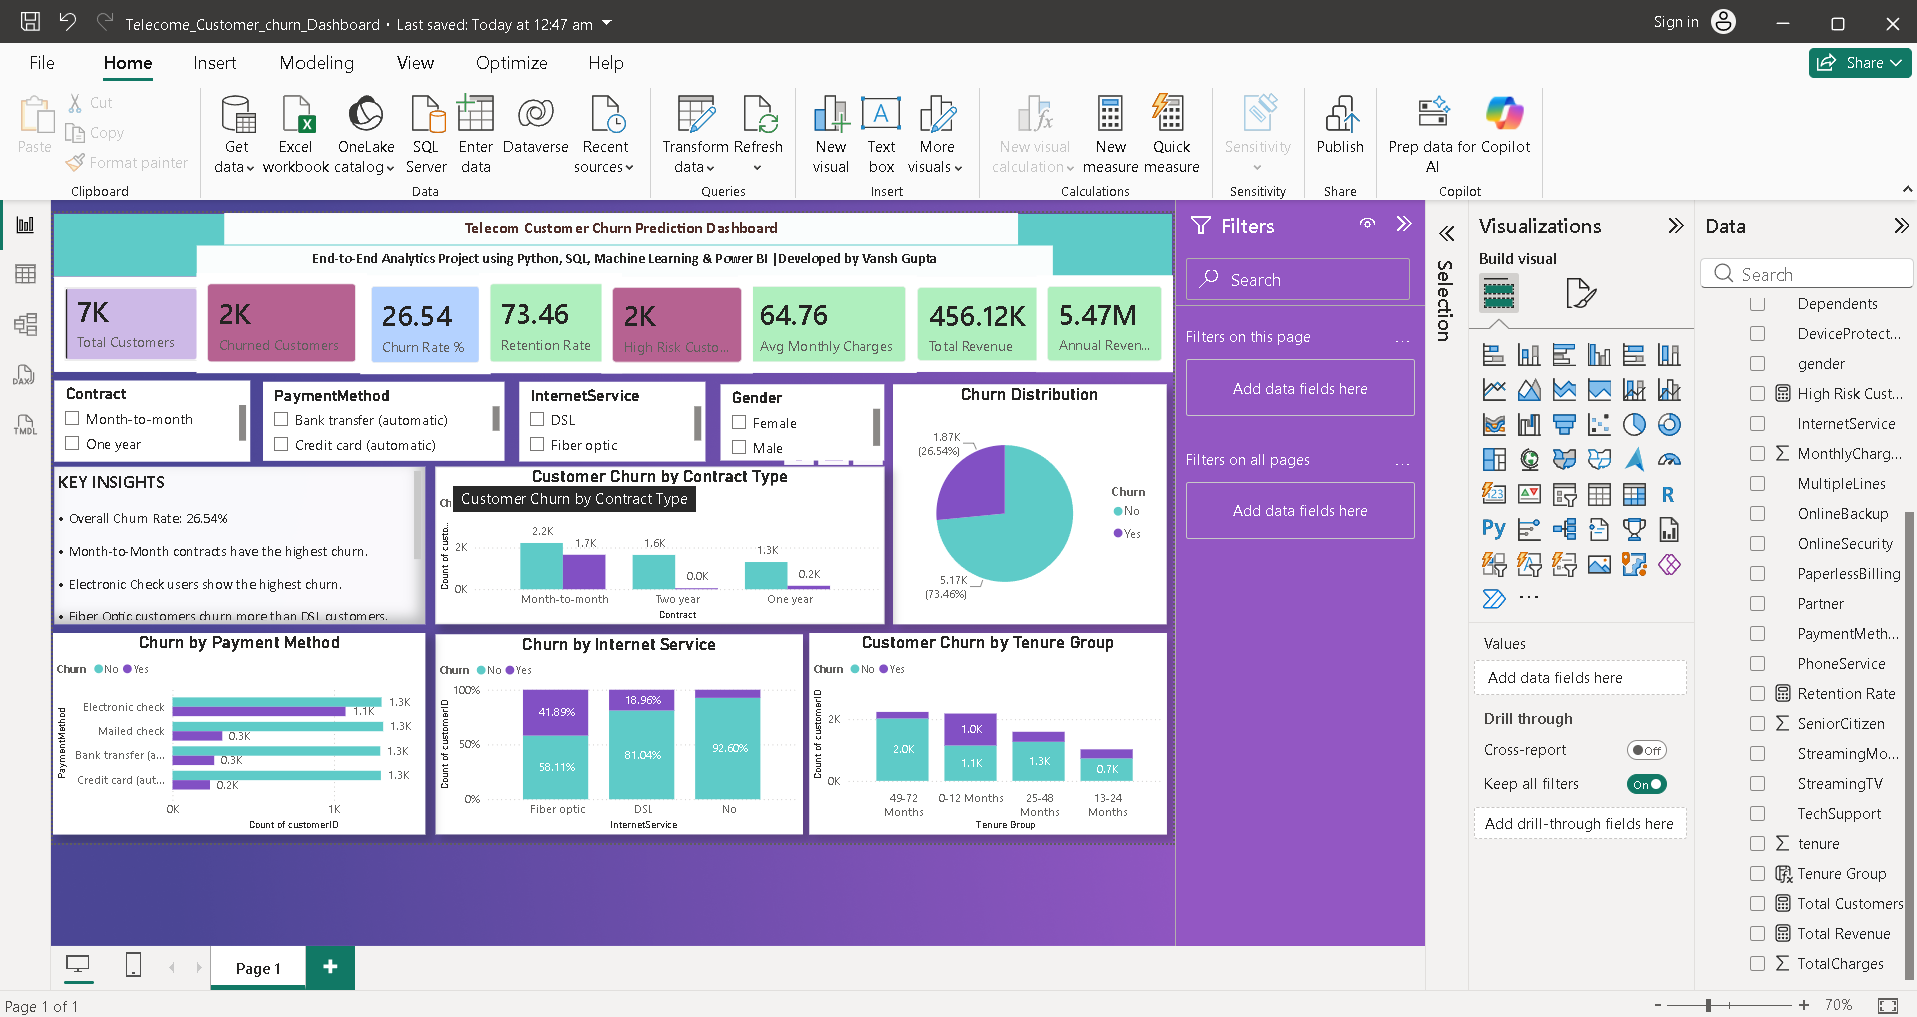

The page's visual inventory and layout, read from the dashboard file:
{"tool":"powerbi","page":{"name":"Page 1","canvas":[1280,720],"ordinal":0},"visuals":[{"type":"pieChart","title":"Churn Distribution","fields":{"Y":["CountNonNull(Telco-Customer-Churn.customerID)"],"Category":["Telco-Customer-Churn.Churn"]},"box":[932.9,211.4,340,258.6],"z":0},{"type":"clusteredColumnChart","title":"Customer Churn by Contract Type","fields":{"Category":["Telco-Customer-Churn.Contract"],"Y":["CountNonNull(Telco-Customer-Churn.customerID)"],"Series":["Telco-Customer-Churn.Churn"]},"box":[425.7,290,492.9,180],"z":2000},{"type":"hundredPercentStackedColumnChart","title":"Churn by Internet Service","fields":{"Y":["CountNonNull(Telco-Customer-Churn.customerID)"],"Category":["Telco-Customer-Churn.InternetService"],"Series":["Telco-Customer-Churn.Churn"]},"box":[437.1,481.4,420,228.6],"z":3000},{"type":"clusteredBarChart","title":"Churn by Payment Method","fields":{"Category":["Telco-Customer-Churn.PaymentMethod"],"Series":["Telco-Customer-Churn.Churn"],"Y":["CountNonNull(Telco-Customer-Churn.customerID)"]},"box":[0,480,425.7,230],"z":3500},{"type":"shape","box":[0,0,1280,73.3],"z":4000},{"type":"textbox","box":[195.7,0,907.1,35.7],"z":5000},{"type":"textbox","box":[164.3,37.1,978.6,35.7],"z":6000},{"type":"textbox","box":[1.4,290,392.9,180],"z":7000},{"type":"columnChart","title":"Customer Churn by Tenure Group","fields":{"Category":["Telco-Customer-Churn.Tenure Group"],"Y":["CountNonNull(Telco-Customer-Churn.customerID)"],"Series":["Telco-Customer-Churn.Churn"]},"box":[864.3,480,408.6,230],"z":8000},{"type":"cardVisual","fields":{"Data":["Telco-Customer-Churn.Total Customers"]},"box":[1.4,77.1,177.1,110],"z":9000},{"type":"cardVisual","fields":{"Data":["Telco-Customer-Churn.Churned Customers"]},"box":[164,74,194,114],"z":10000},{"type":"cardVisual","fields":{"Data":["Telco-Customer-Churn.Churn Rate"]},"box":[351.4,77.1,148.6,112.9],"z":11000},{"type":"cardVisual","fields":{"Data":["Telco-Customer-Churn.Total Revenue"]},"box":[951.4,80,191.4,111.4],"z":12000},{"type":"cardVisual","fields":{"Data":["Telco-Customer-Churn.Annual Revenue"]},"box":[1118,77,162,111],"z":13000},{"type":"cardVisual","fields":{"Data":["Telco-Customer-Churn.Avg Monthly Charges"]},"box":[765,77,205,108],"z":14000},{"type":"cardVisual","fields":{"Data":["Telco-Customer-Churn.Retention Rate"]},"box":[477.1,77.1,162.9,114.3],"z":15000},{"type":"slicer","fields":{"Values":["Telco-Customer-Churn.InternetService"]},"box":[500,188.6,212.9,91.4],"z":16000},{"type":"slicer","fields":{"Values":["Telco-Customer-Churn.gender"]},"box":[731.4,191.4,187.1,87.1],"z":17000},{"type":"slicer","fields":{"Values":["Telco-Customer-Churn.Contract"]},"box":[0,187.1,224.3,92.9],"z":18000},{"type":"slicer","fields":{"Values":["Telco-Customer-Churn.PaymentMethod"]},"box":[224.3,187.1,275.7,90],"z":19000},{"type":"cardVisual","fields":{"Data":["Telco-Customer-Churn.High Risk Customers"]},"box":[616,80,173,105],"z":20000}]}

Visuals, with their boxes on the page's 1280x720 design canvas (x1, y1, x2, y2). These are canvas units, not pixel positions in the 1917x1017 screenshot, which may show the page scaled, cropped or inside an application window:
"Churn Distribution" pieChart: {"x1": 933, "y1": 211, "x2": 1273, "y2": 470}
"Customer Churn by Contract Type" clusteredColumnChart: {"x1": 426, "y1": 290, "x2": 919, "y2": 470}
"Churn by Internet Service" hundredPercentStackedColumnChart: {"x1": 437, "y1": 481, "x2": 857, "y2": 710}
"Churn by Payment Method" clusteredBarChart: {"x1": 0, "y1": 480, "x2": 426, "y2": 710}
shape: {"x1": 0, "y1": 0, "x2": 1280, "y2": 73}
textbox: {"x1": 196, "y1": 0, "x2": 1103, "y2": 36}
textbox: {"x1": 164, "y1": 37, "x2": 1143, "y2": 73}
textbox: {"x1": 1, "y1": 290, "x2": 394, "y2": 470}
"Customer Churn by Tenure Group" columnChart: {"x1": 864, "y1": 480, "x2": 1273, "y2": 710}
cardVisual - Telco-Customer-Churn.Total Customers: {"x1": 1, "y1": 77, "x2": 178, "y2": 187}
cardVisual - Telco-Customer-Churn.Churned Customers: {"x1": 164, "y1": 74, "x2": 358, "y2": 188}
cardVisual - Telco-Customer-Churn.Churn Rate: {"x1": 351, "y1": 77, "x2": 500, "y2": 190}
cardVisual - Telco-Customer-Churn.Total Revenue: {"x1": 951, "y1": 80, "x2": 1143, "y2": 191}
cardVisual - Telco-Customer-Churn.Annual Revenue: {"x1": 1118, "y1": 77, "x2": 1280, "y2": 188}
cardVisual - Telco-Customer-Churn.Avg Monthly Charges: {"x1": 765, "y1": 77, "x2": 970, "y2": 185}
cardVisual - Telco-Customer-Churn.Retention Rate: {"x1": 477, "y1": 77, "x2": 640, "y2": 191}
slicer - Telco-Customer-Churn.InternetService: {"x1": 500, "y1": 189, "x2": 713, "y2": 280}
slicer - Telco-Customer-Churn.gender: {"x1": 731, "y1": 191, "x2": 918, "y2": 278}
slicer - Telco-Customer-Churn.Contract: {"x1": 0, "y1": 187, "x2": 224, "y2": 280}
slicer - Telco-Customer-Churn.PaymentMethod: {"x1": 224, "y1": 187, "x2": 500, "y2": 277}
cardVisual - Telco-Customer-Churn.High Risk Customers: {"x1": 616, "y1": 80, "x2": 789, "y2": 185}
